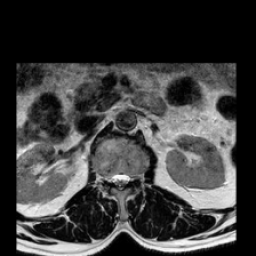CCS_normal: (117, 166, 123, 195)
LFS_normal: (130, 165, 138, 186)
LLS_normal: (123, 166, 130, 190)
RFS_normal: (104, 165, 111, 189)
RLS_normal: (111, 166, 117, 190)
